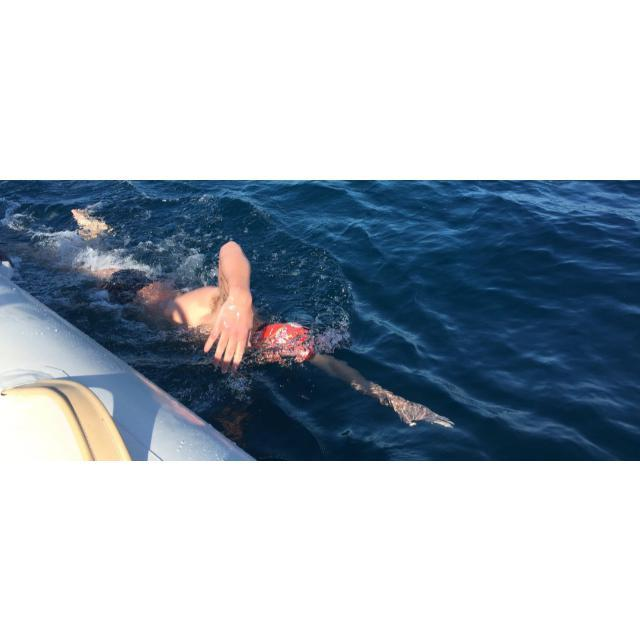human: (25, 201, 460, 435)
